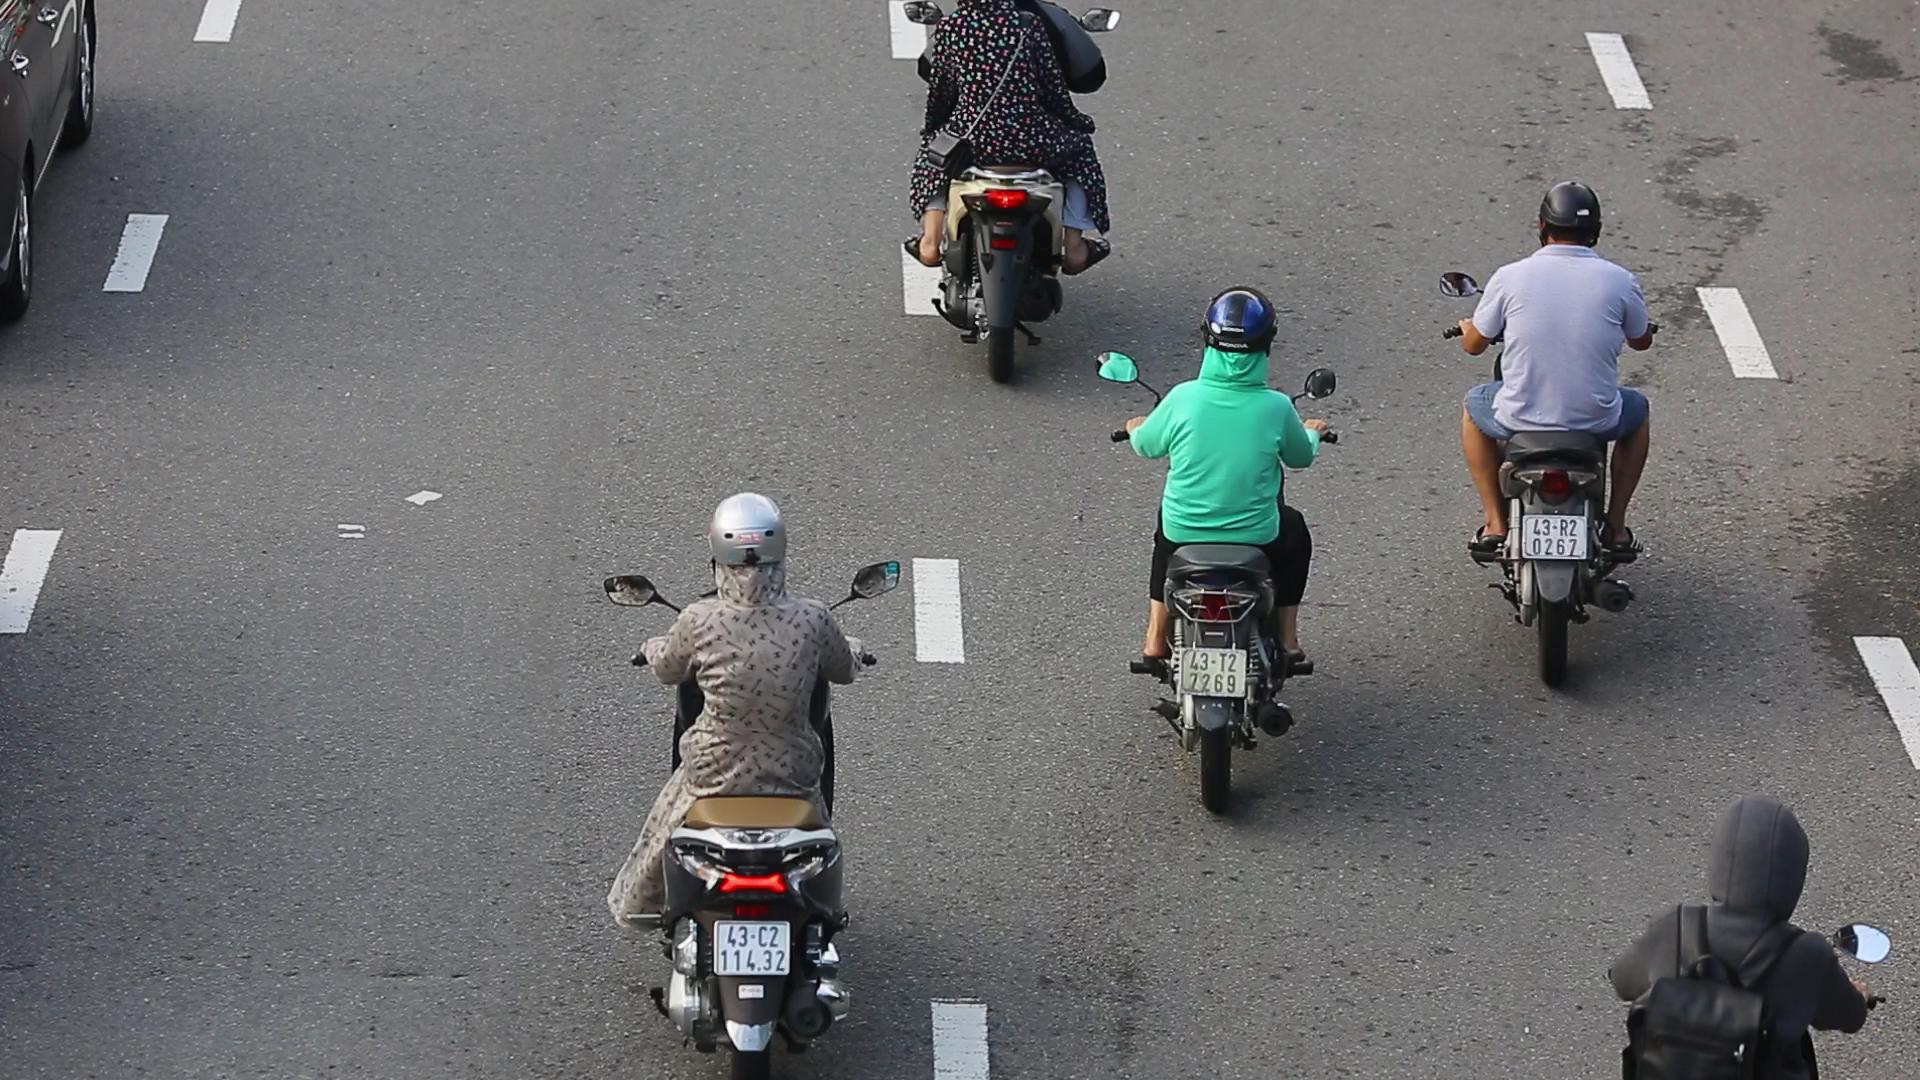motobike: (591, 487, 906, 1080), (1095, 273, 1350, 827), (1422, 179, 1667, 692)
